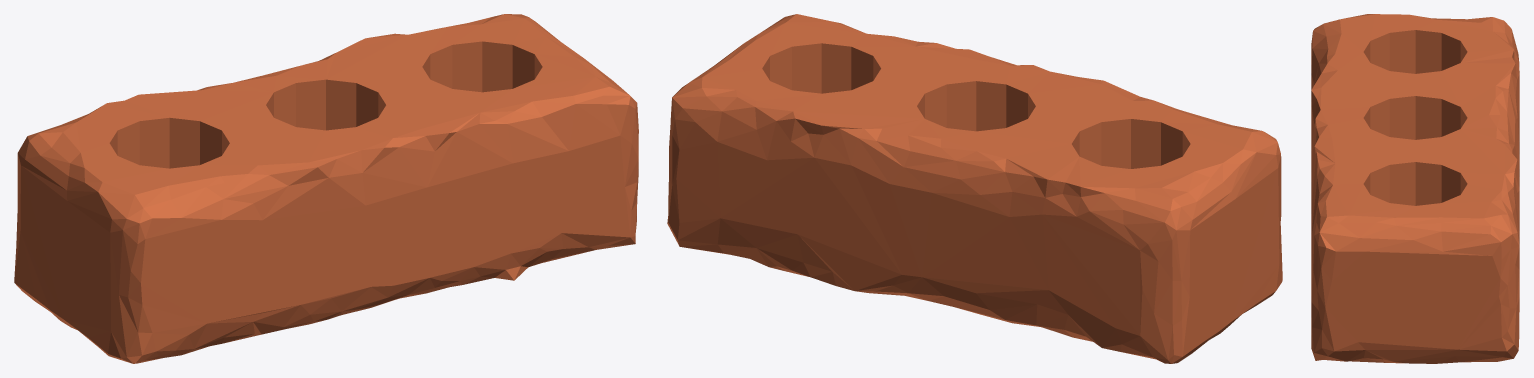
File: pickup_brick.fbx
3 views of the same model, side by side, from view 1: azimuth 30°, elevation 25°; view 2: azimuth 150°, elevation 25°; view 3: azimuth 270°, elevation 25° (orthographic). The views are drawn at different scales.
Parts seen in each view (by area): view 1: Cylinder; view 2: Cylinder; view 3: Cylinder.
Boxes of the visible parts, x1,y1,x2,y2 form: Cylinder: (14, 14, 638, 363); Cylinder: (667, 14, 1282, 363); Cylinder: (1311, 14, 1519, 363).
Size of the model in its own units: 100 by 30.03 by 40.
